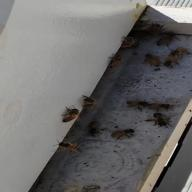Bee: (61, 104, 86, 125)
